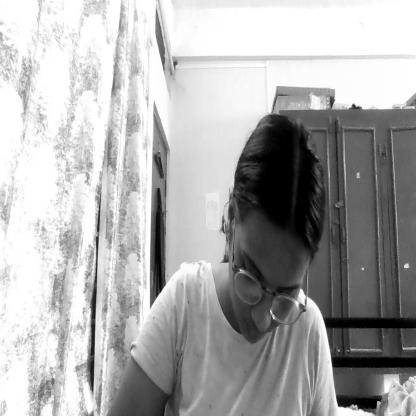Distracted: (228, 115, 324, 344)
